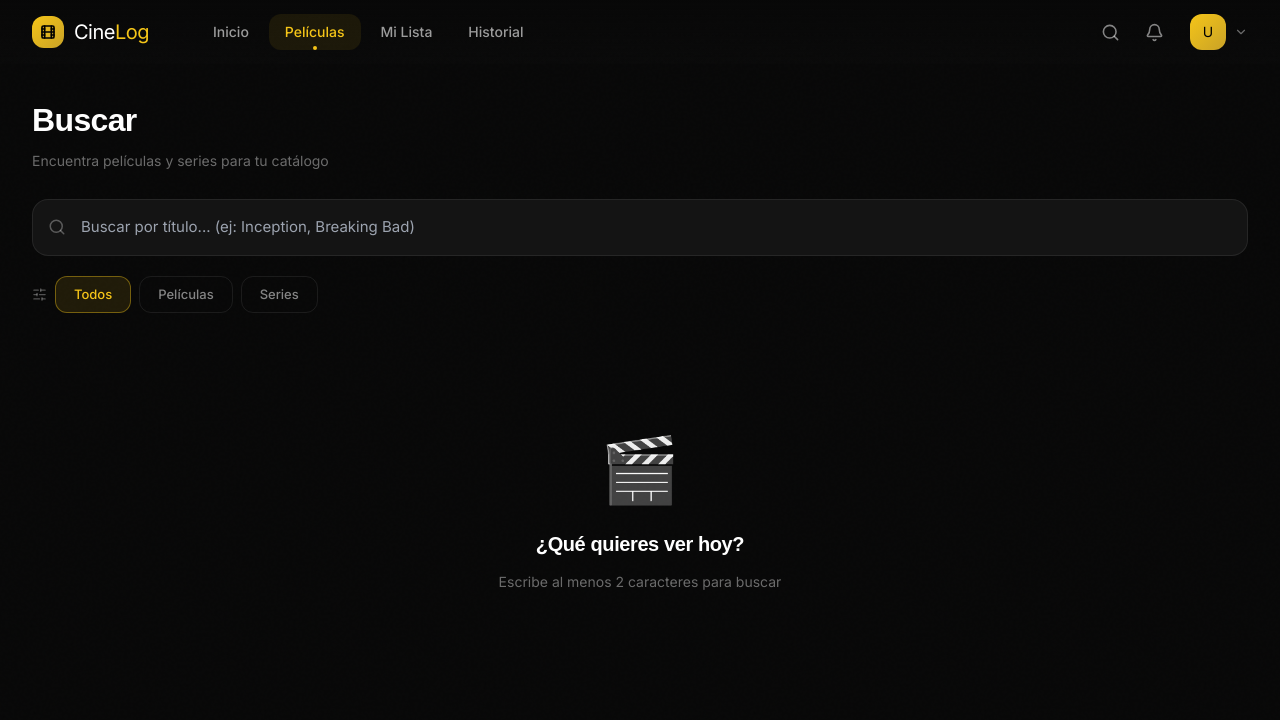
Test: Busqueda › buscar error de servidor muestra mensaje de error
The image size is (1280, 720).
Type "server-error" into the field with test id "buscar-input" at (640, 228), box left=32, top=199, right=1248, bottom=256
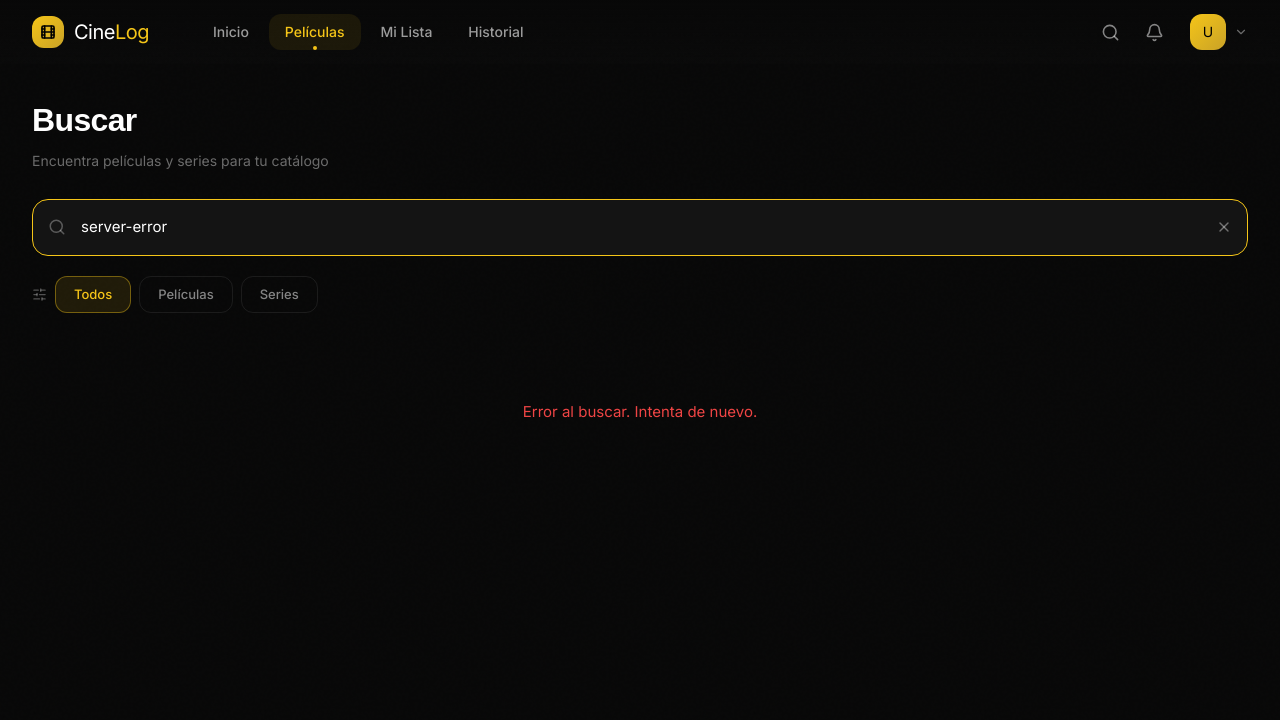
Check: the text "Error al buscar. Intenta de nuevo." is shown, box left=523, top=402, right=757, bottom=421
